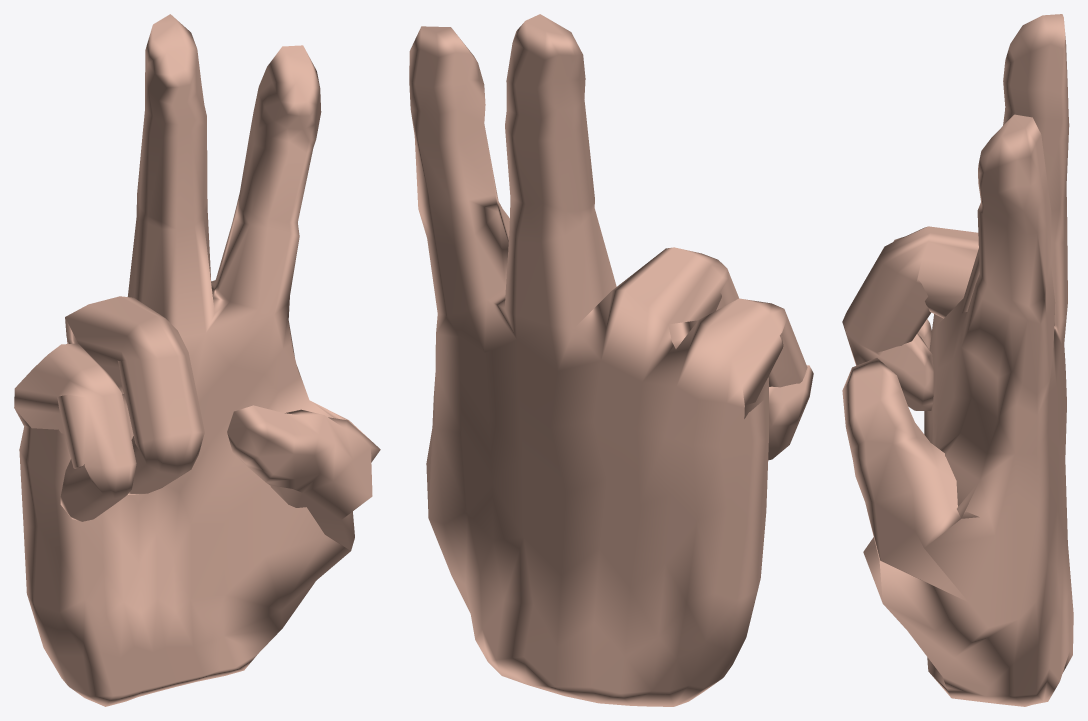
File: MAO_2.obj
The picture shows the model from 3 angles, left to right: view 1: azimuth 30°, elevation 25°; view 2: azimuth 150°, elevation 25°; view 3: azimuth 270°, elevation 25°; orthographic projection. The views are drawn at different scales.
Visible parts, largest first — view 1: mao_dir:mao_dir; view 2: mao_dir:mao_dir; view 3: mao_dir:mao_dir.
Part boxes in pixels (box(x1,y1,x2,y2)): mao_dir:mao_dir: box(14, 14, 380, 706); mao_dir:mao_dir: box(409, 14, 813, 706); mao_dir:mao_dir: box(842, 14, 1073, 706).
Bounding box in the file's own units: 133 × 243 × 75.81.
